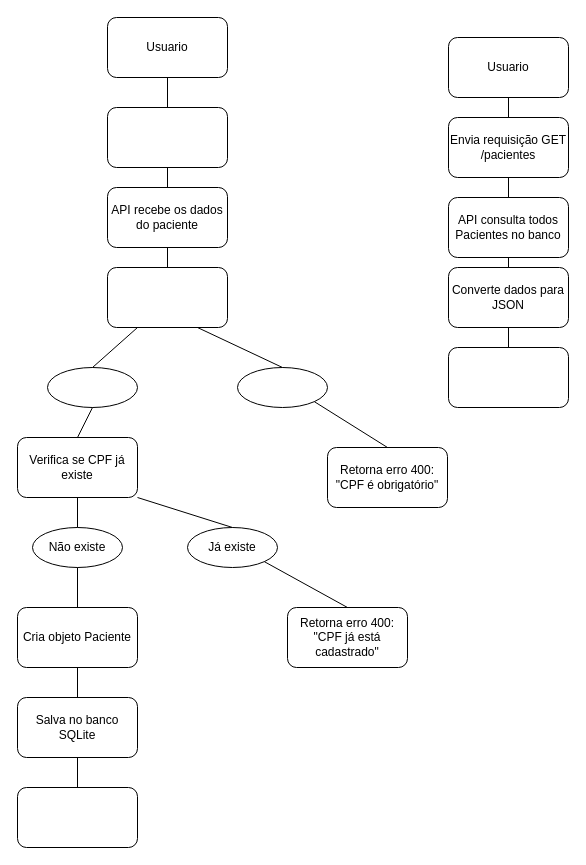
This 586x865 diagram has some shape labels left out. Here are the shapes that lost their labels. From the top down, the centre of each, then its label:
[167,137]: Envia requisição POST /pacientes
[167,297]: Valida se CPF foi enviado
[92,387]: CPF OK
[282,387]: CPF ausente
[508,377]: Retorna lista de pacientes (200)
[77,817]: Retorna 201: "Paciente cadastrado", ID
